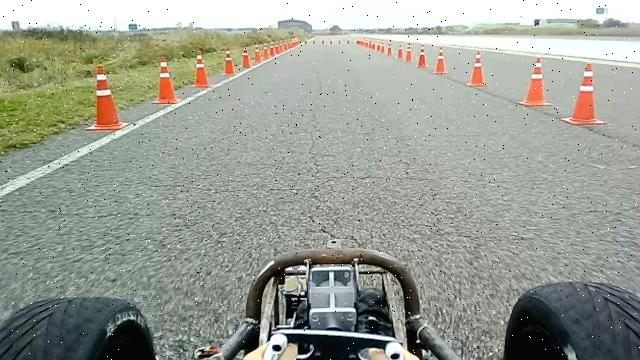red cone: (85, 64, 130, 131), (561, 62, 606, 125), (516, 56, 553, 106), (152, 55, 182, 104), (466, 49, 488, 87), (192, 50, 211, 88), (221, 46, 237, 76), (432, 46, 448, 74), (416, 44, 428, 68), (240, 46, 252, 68), (403, 43, 412, 63), (253, 44, 262, 63), (396, 43, 404, 59), (386, 41, 393, 57)
